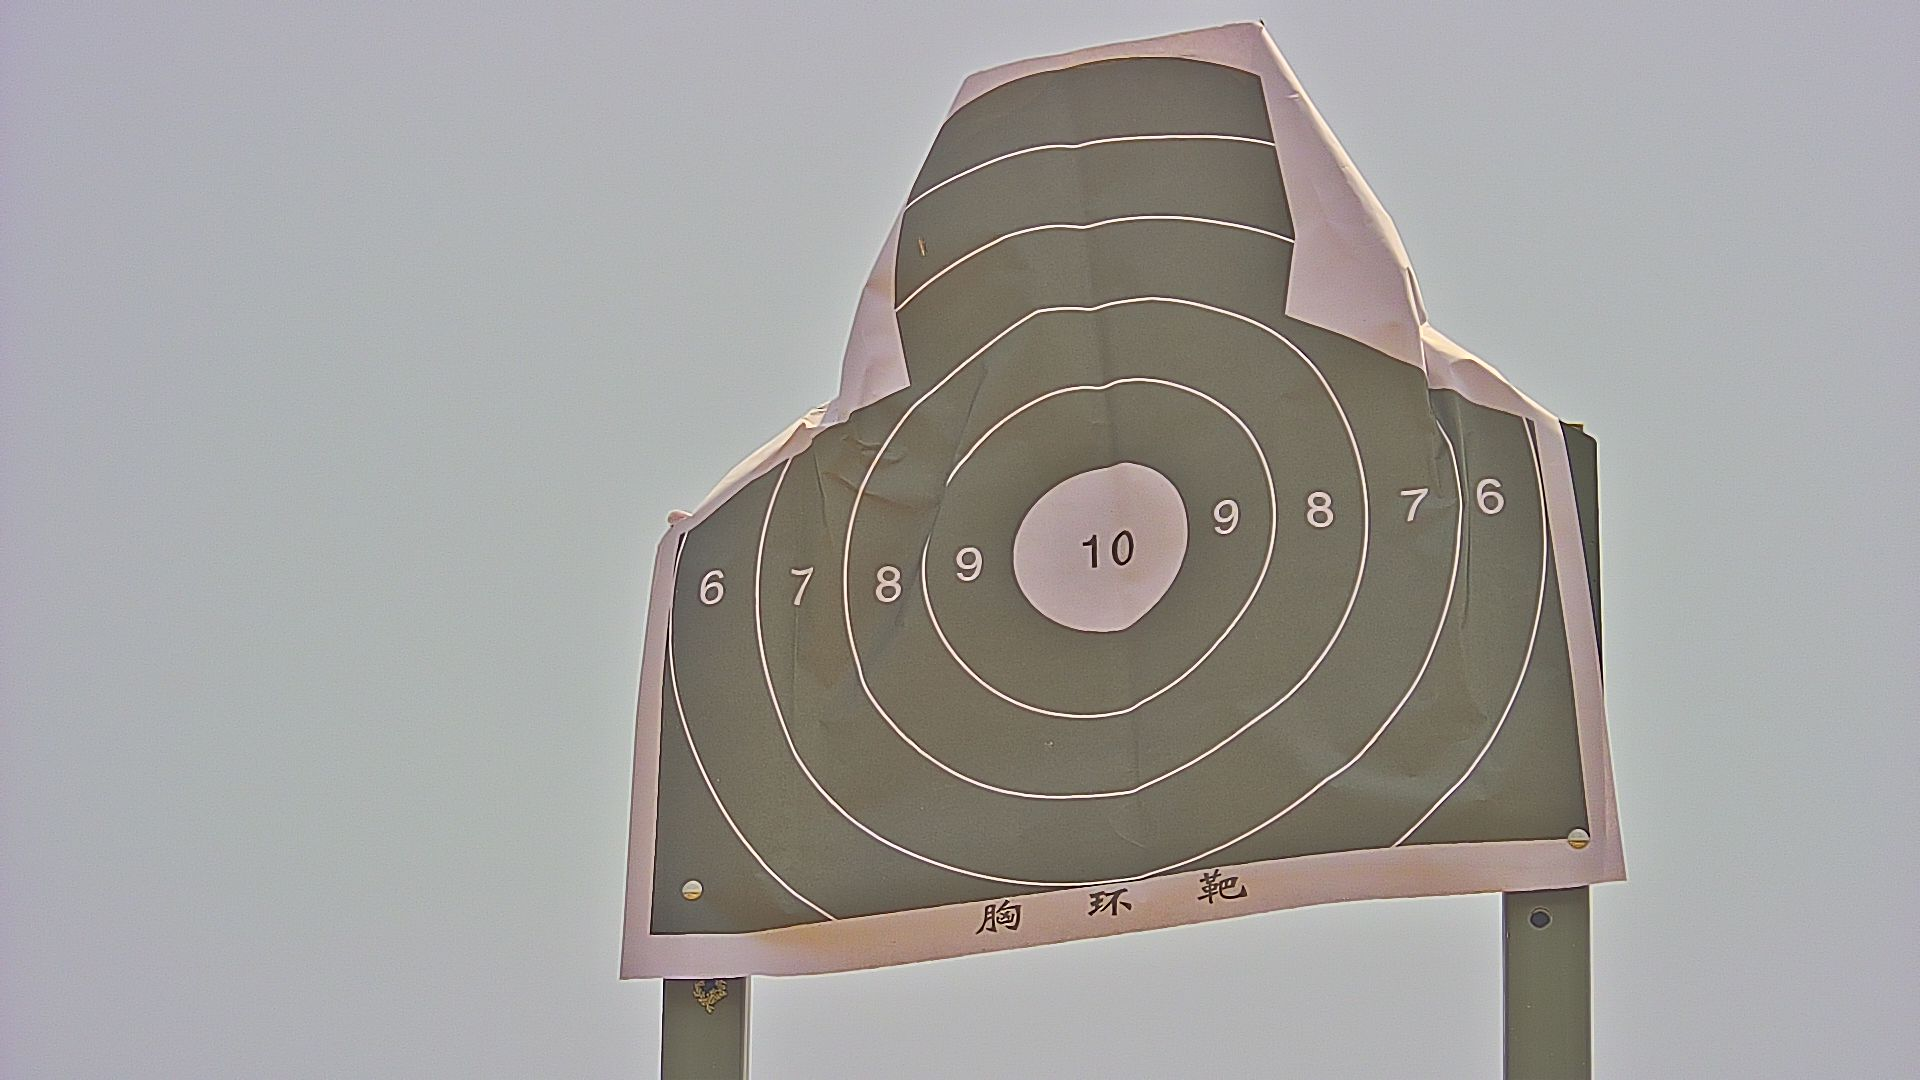kernel: (1102, 546, 1106, 554)
target: (655, 57, 1597, 942)
ten: (1011, 458, 1185, 632)
